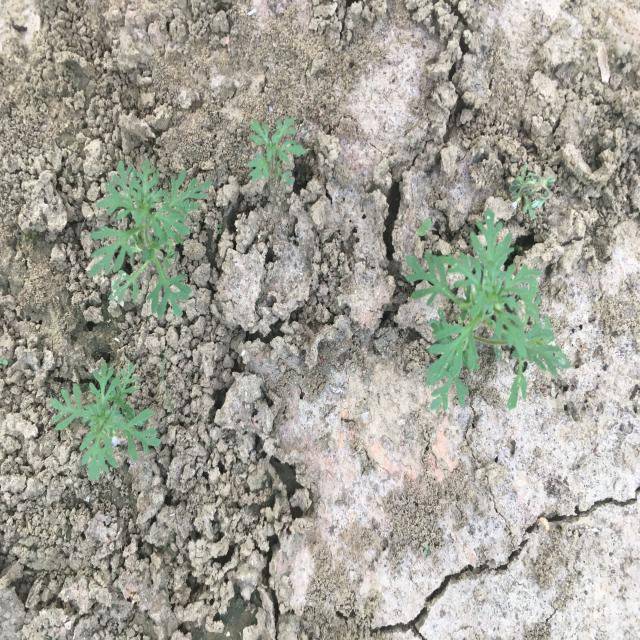Ragweed: (403, 207, 573, 411), (86, 157, 213, 322), (47, 359, 163, 484), (246, 114, 307, 191), (506, 159, 558, 223)
